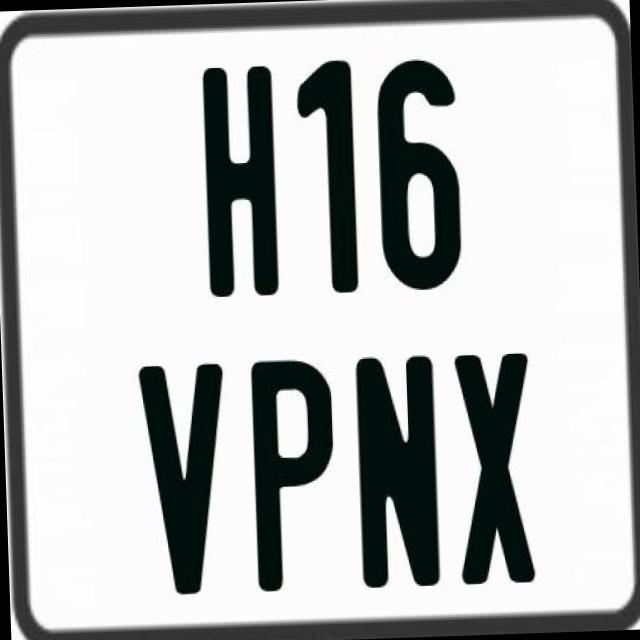1: (294, 58, 358, 298)
6: (372, 56, 460, 290)
H: (202, 65, 284, 302)
N: (352, 350, 442, 584)
P: (248, 356, 342, 590)
V: (138, 359, 234, 600)
X: (454, 350, 536, 588)
